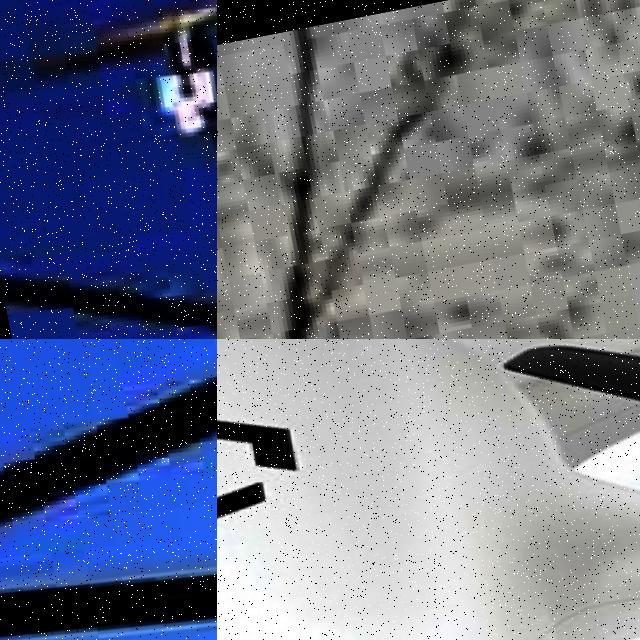0: (0, 0, 217, 339), (0, 339, 217, 640)
drone: (217, 339, 640, 640)
